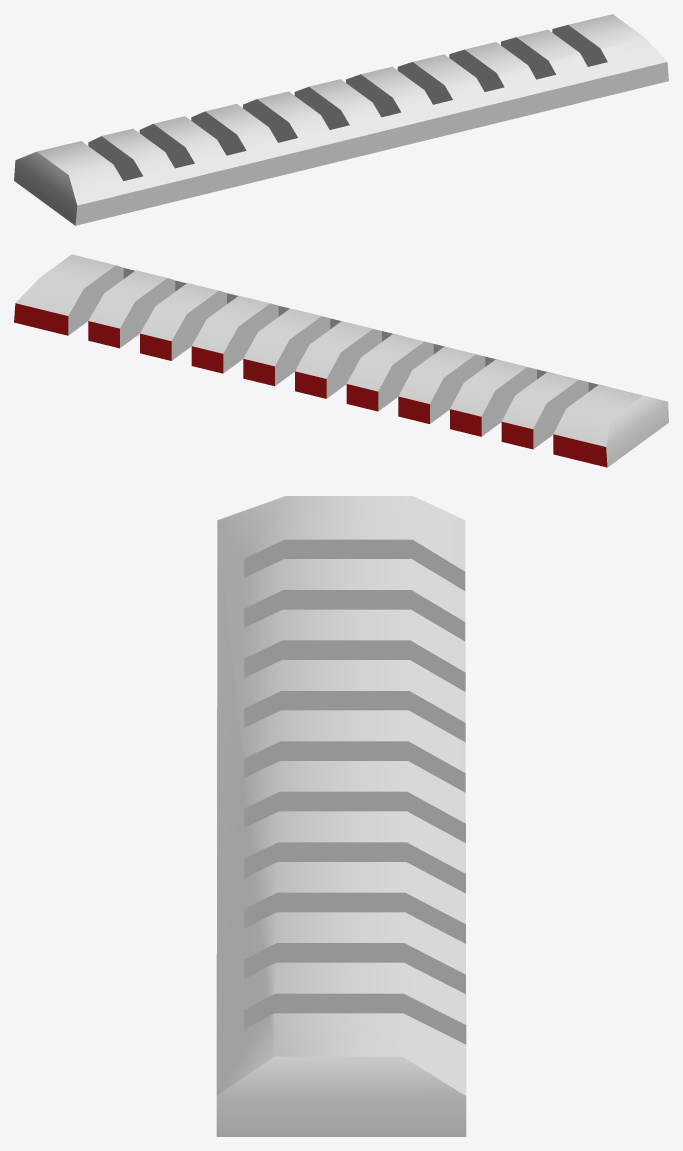
The model's file is pineSplitLogNotchedRack.glb.
3 renders of one model, top to bottom at view 1: azimuth 30°, elevation 25°; view 2: azimuth 150°, elevation 25°; view 3: azimuth 270°, elevation 25°, orthographic. The views are drawn at different scales.
Visible parts, largest first — view 1: Cylinder; view 2: Cylinder; view 3: Cylinder.
Boxes of the visible parts, x1,y1,x2,y2 form: Cylinder: [14, 14, 668, 225]; Cylinder: [14, 254, 668, 467]; Cylinder: [216, 496, 466, 1136].
Size of the model in its own units: 2.07 by 0.1214 by 0.3771.
